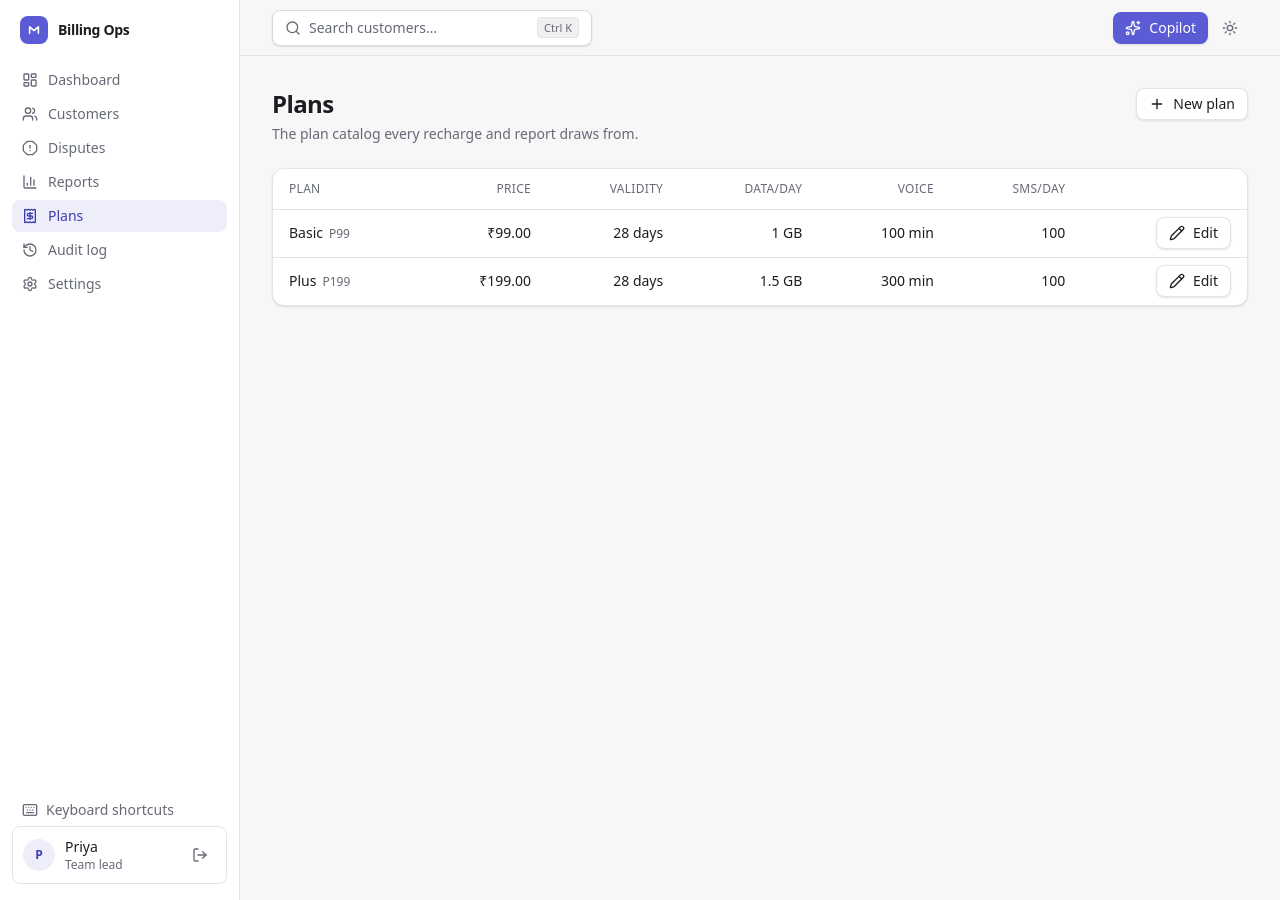
it: Plans page › a team lead edits an existing plan
The width and height of the screenshot is (1280, 900).
Expected: the table with test id "plans-table" is shown, [273,169,1247,305]
Click the button with test id "edit-plan-P99": (1193,233) [1156,217,1231,249]
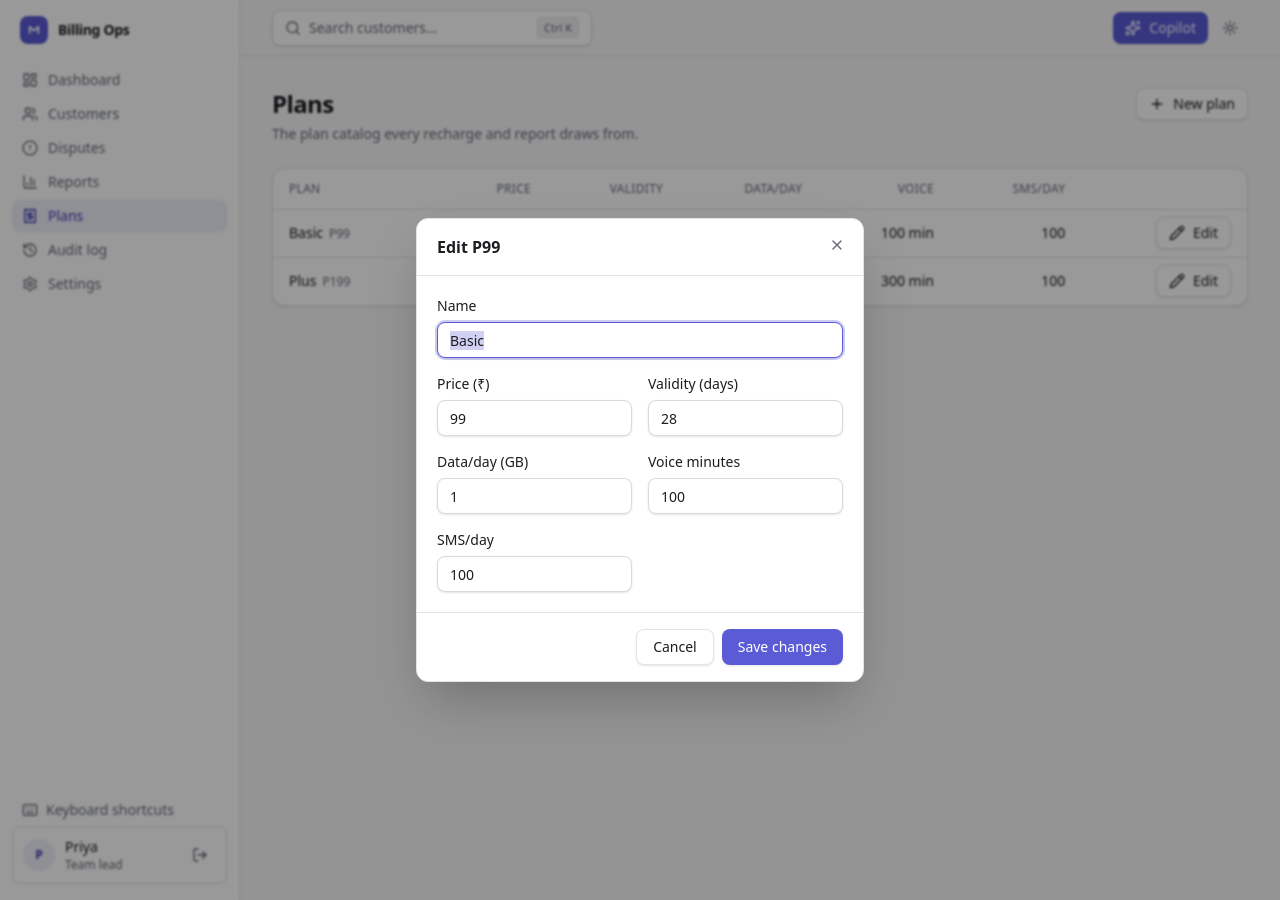
Now the field with test id "plan-price-input" holds "99"
Replace the text in the field with test id "plan-price-input" with "119": (534,418) [437,400,632,436]
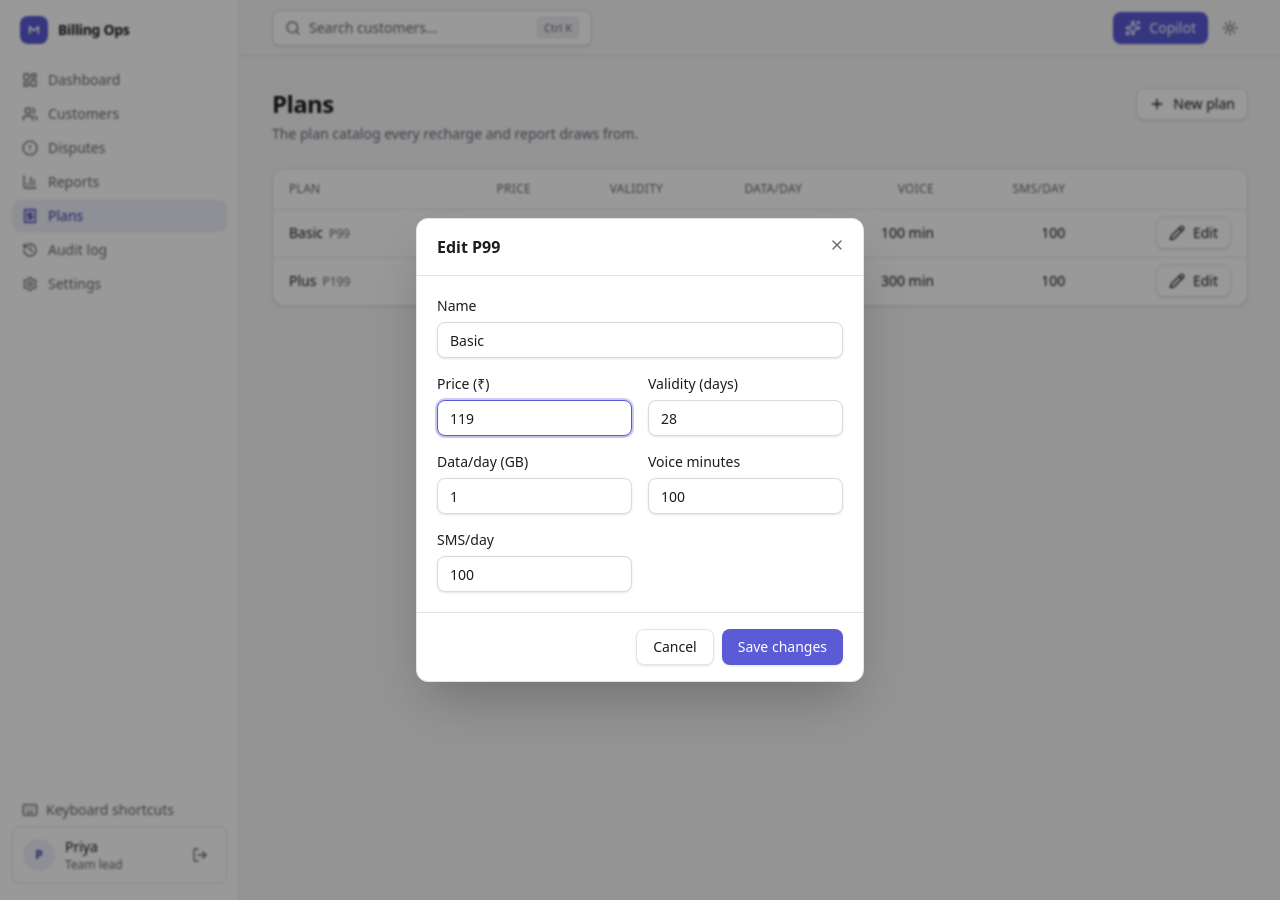
Click the button with test id "plan-save": (782,647) [722,629,843,665]
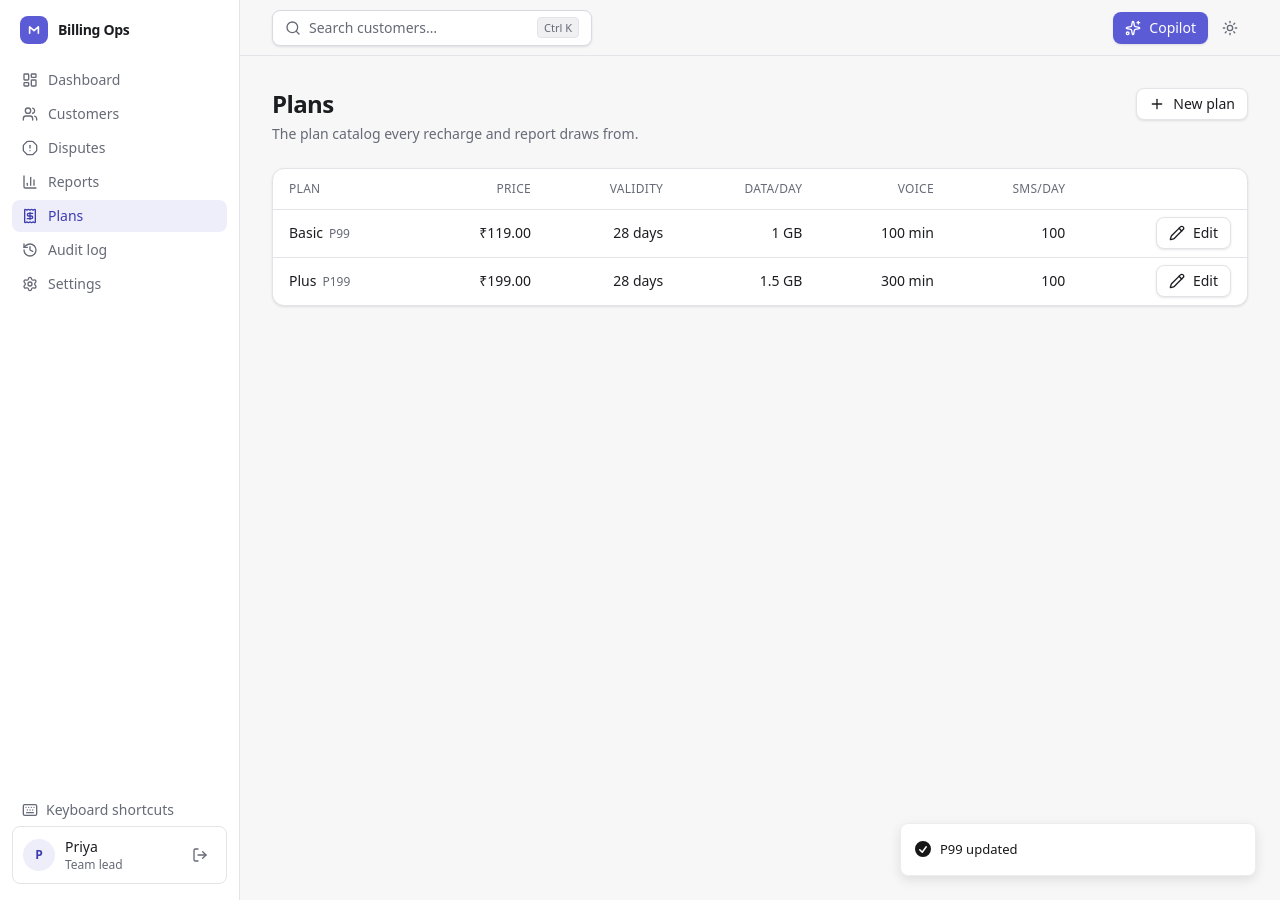
Now the row with test id "plan-row-P99" shows "₹119.00", box [479,223,531,242]
